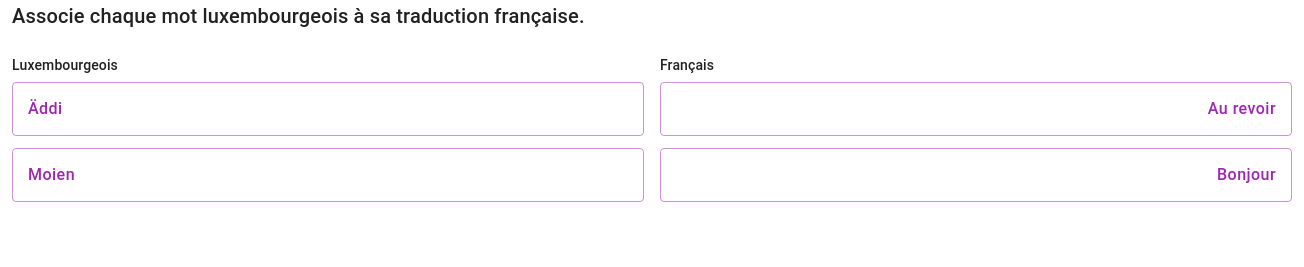
Test: WordPairingExercise › affiche un message d'erreur lorsqu'une mauvaise association est tentée
The width and height of the screenshot is (1304, 267).
Click the button "Moien" at (51, 174), box x1=12 y1=148 x2=644 y2=202
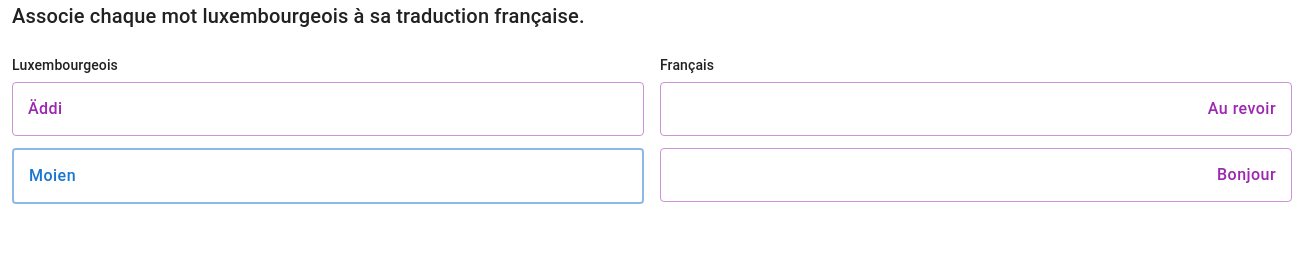
Click the button "Au revoir" at (1242, 108), box x1=660 y1=82 x2=1292 y2=136
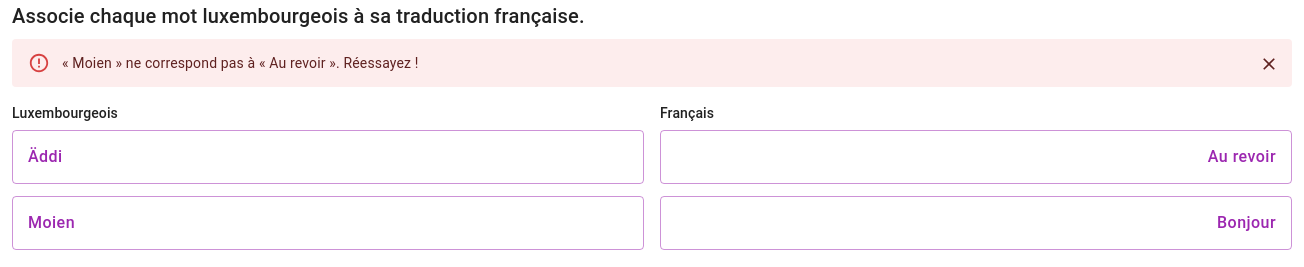
Expected: the text "« Moien » ne correspond pas à « Au revoir ». Réessayez !" is shown, x1=62 y1=55 x2=418 y2=71
